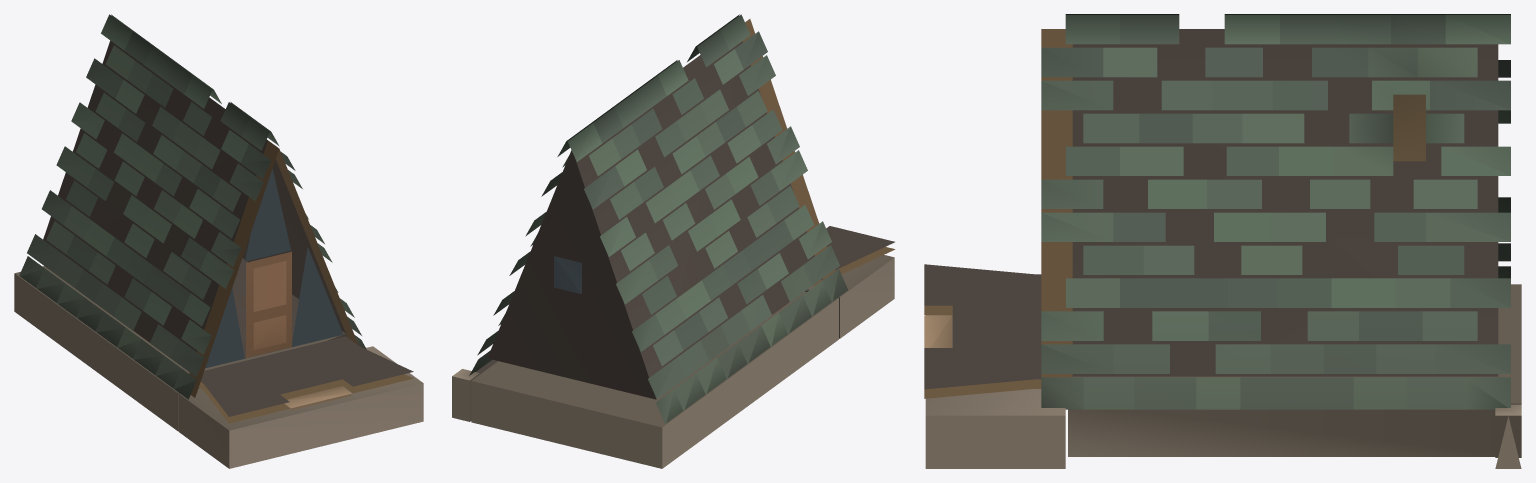
The model's file is aframe.lod.glb.
3 renders of one model, left to right at view 1: azimuth 30°, elevation 25°; view 2: azimuth 150°, elevation 25°; view 3: azimuth 270°, elevation 25°, orthographic. The views are drawn at different scales.
Visible parts, largest first — view 1: aframe; view 2: aframe; view 3: aframe.
Part boxes in pixels (left/top/right/bottom): aframe: left=14, top=14, right=423, bottom=468; aframe: left=452, top=14, right=895, bottom=468; aframe: left=924, top=14, right=1521, bottom=468.
Size of the model in its own units: 5.48 by 7.46 by 10.48.
